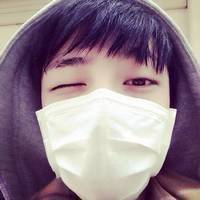face_mask: (42, 12, 176, 199)
